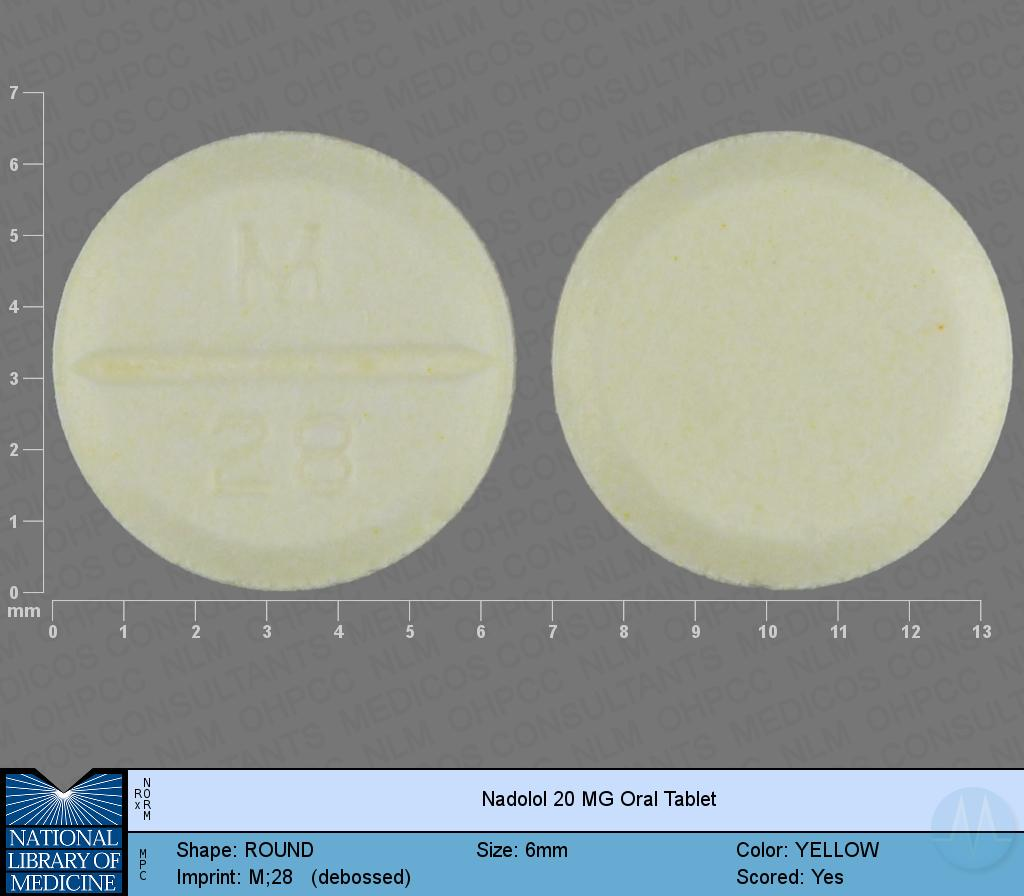Pill: (542, 120, 1024, 598), (47, 125, 528, 598)
